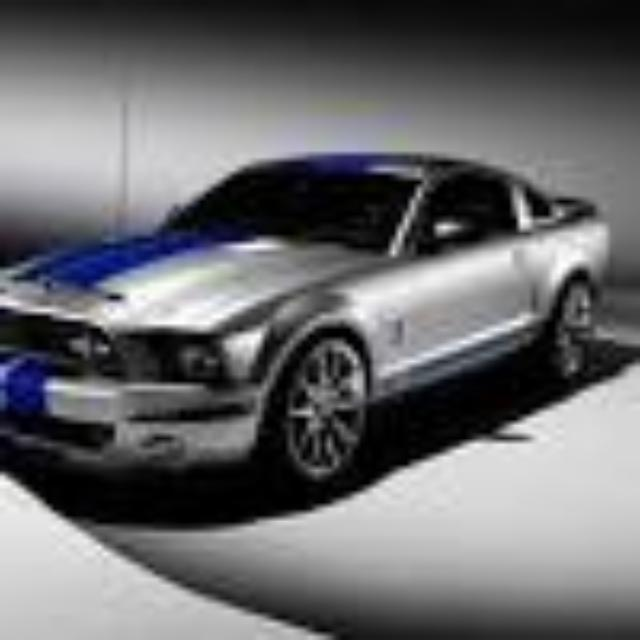ford-mustang: (1, 154, 610, 496)
